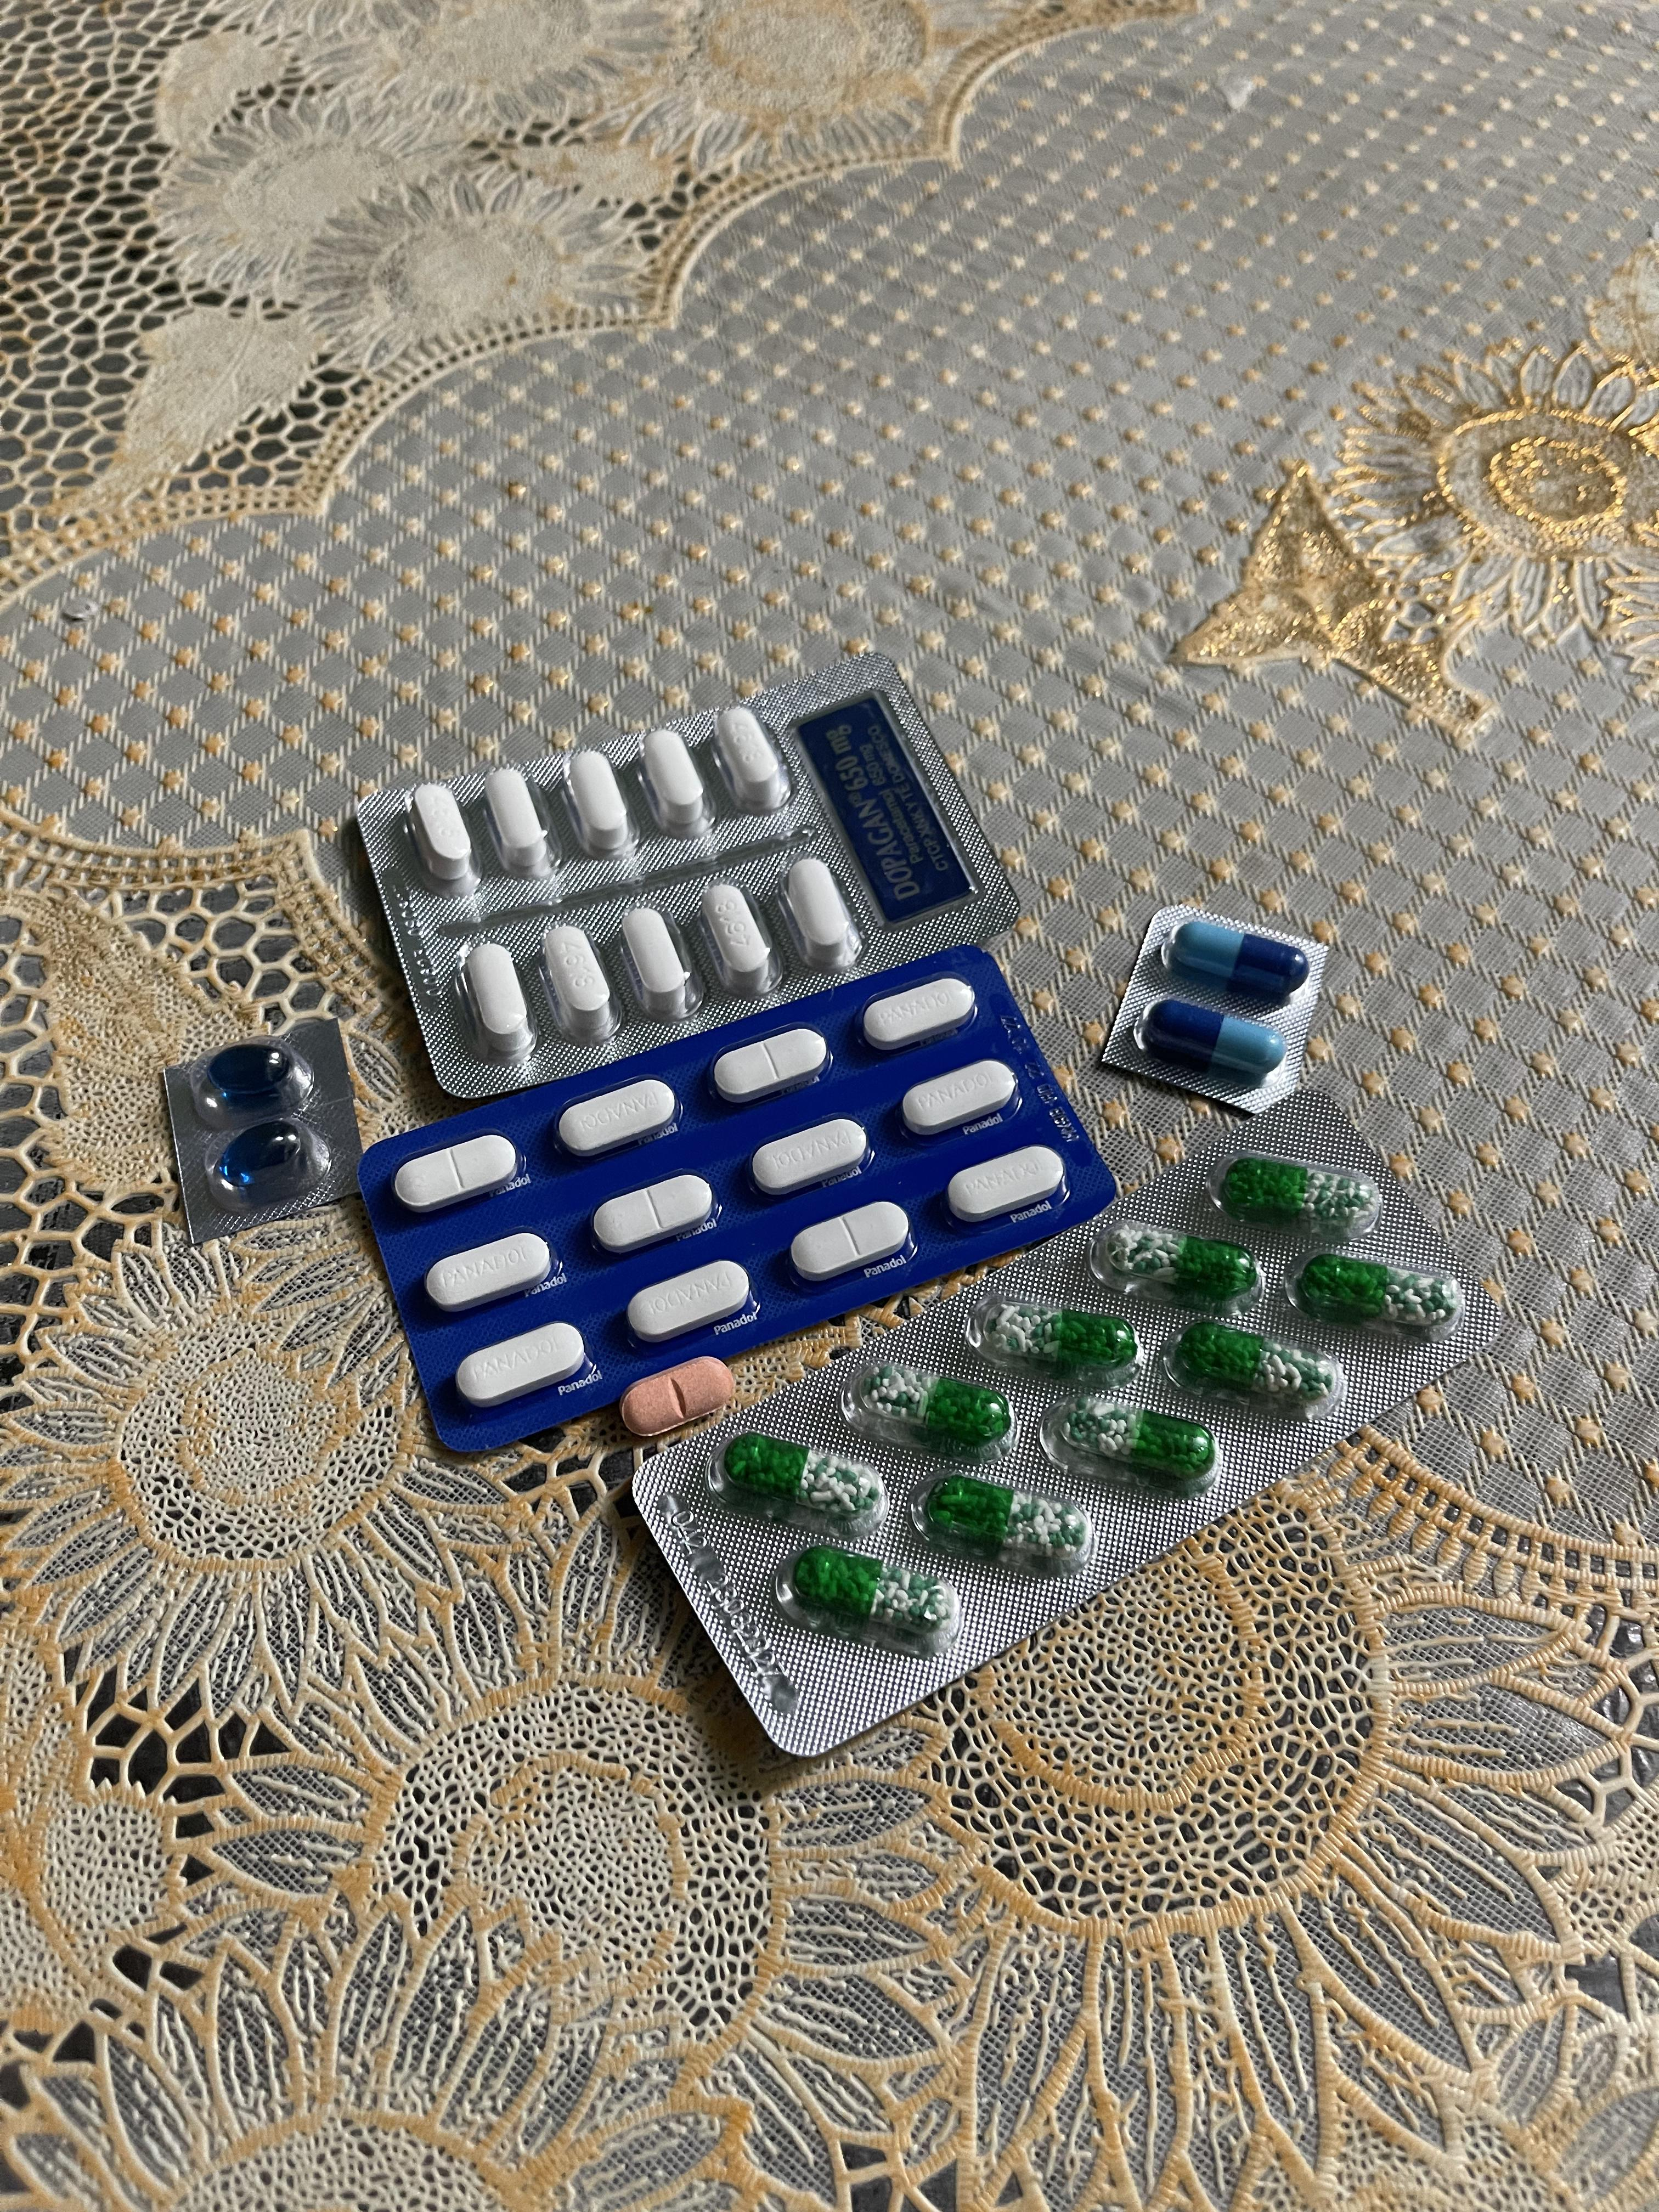Lincomyxin_500mg: (213, 1118, 317, 1197), (204, 1042, 298, 1106)
Loratadine_10mg: (620, 1355, 739, 1437)
Paracetamol_350mg: (455, 1320, 587, 1407), (629, 1258, 755, 1343), (425, 1230, 552, 1313), (394, 1132, 516, 1212), (946, 1144, 1068, 1223), (596, 1172, 713, 1254), (791, 1198, 910, 1278), (559, 1078, 678, 1158), (751, 1116, 866, 1195), (901, 1061, 1018, 1137), (713, 1028, 824, 1104), (863, 974, 972, 1050)
Paracetamol_500mg: (779, 857, 859, 974), (540, 925, 617, 1042), (619, 902, 692, 1010), (714, 705, 788, 808), (640, 726, 709, 831), (566, 749, 633, 857), (408, 784, 477, 885), (708, 883, 770, 988), (484, 766, 549, 867), (465, 941, 528, 1036)
Paracetamol_650mg: (795, 1543, 955, 1644), (927, 1475, 1087, 1573), (1180, 1320, 1337, 1418), (854, 1364, 1012, 1451), (720, 1435, 878, 1517), (1060, 1404, 1222, 1482), (1100, 1226, 1255, 1306), (981, 1298, 1136, 1376), (1222, 1151, 1371, 1230), (1300, 1254, 1457, 1327)
pill: (1143, 1000, 1288, 1083), (1169, 918, 1310, 1001)
